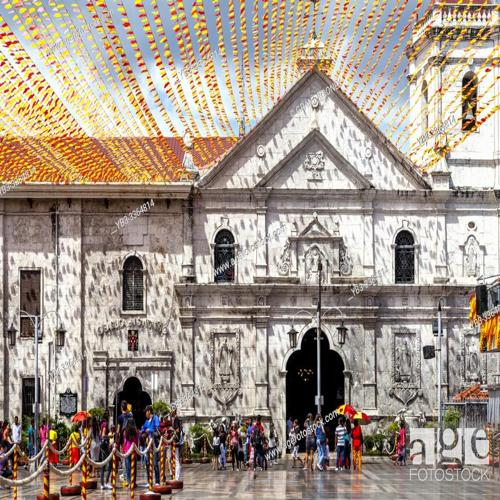Sto. Nino Basilica Church: (189, 1, 500, 464)
